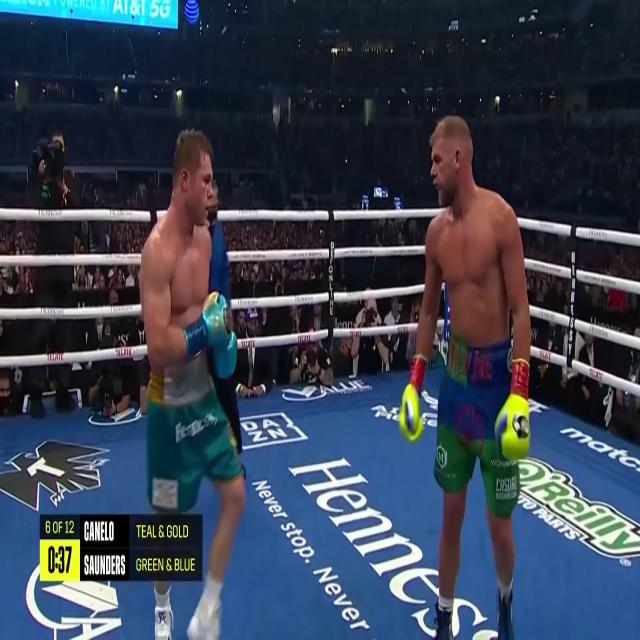boxer_1: (429, 117, 513, 347)
boxer_2: (163, 128, 212, 330)
gloves_1: (494, 359, 531, 461), (398, 356, 425, 444)
gloves_2: (184, 291, 238, 379)
